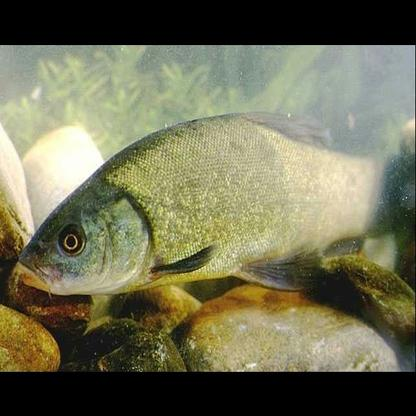fish: (15, 111, 411, 297)
